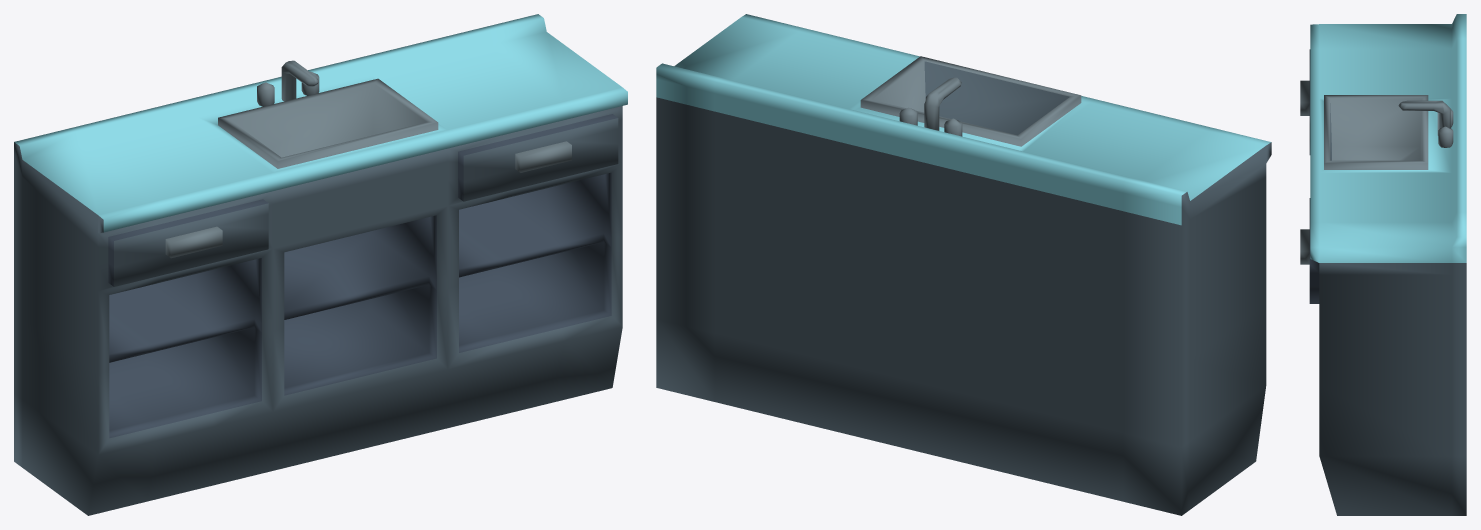
Rendered from UnitsSink_kitchen_v2.fbx.
3 renders of one model, left to right at view 1: azimuth 30°, elevation 25°; view 2: azimuth 150°, elevation 25°; view 3: azimuth 270°, elevation 25°, orthographic. The views are drawn at different scales.
Parts seen in each view (by area): view 1: Cube, Tap; view 2: Cube, Tap; view 3: Cube, Tap, Tap tempeture.
Part boxes in pixels (left/top/right/bottom): Cube: left=14, top=14, right=627, bottom=515; Tap: left=281, top=60, right=318, bottom=101; Cube: left=656, top=14, right=1271, bottom=515; Tap: left=924, top=77, right=961, bottom=130; Cube: left=1300, top=14, right=1466, bottom=515; Tap: left=1398, top=100, right=1450, bottom=135; Tap tempeture: left=1438, top=109, right=1453, bottom=147.
Size of the model in its own units: 199 by 125 by 62.56.
